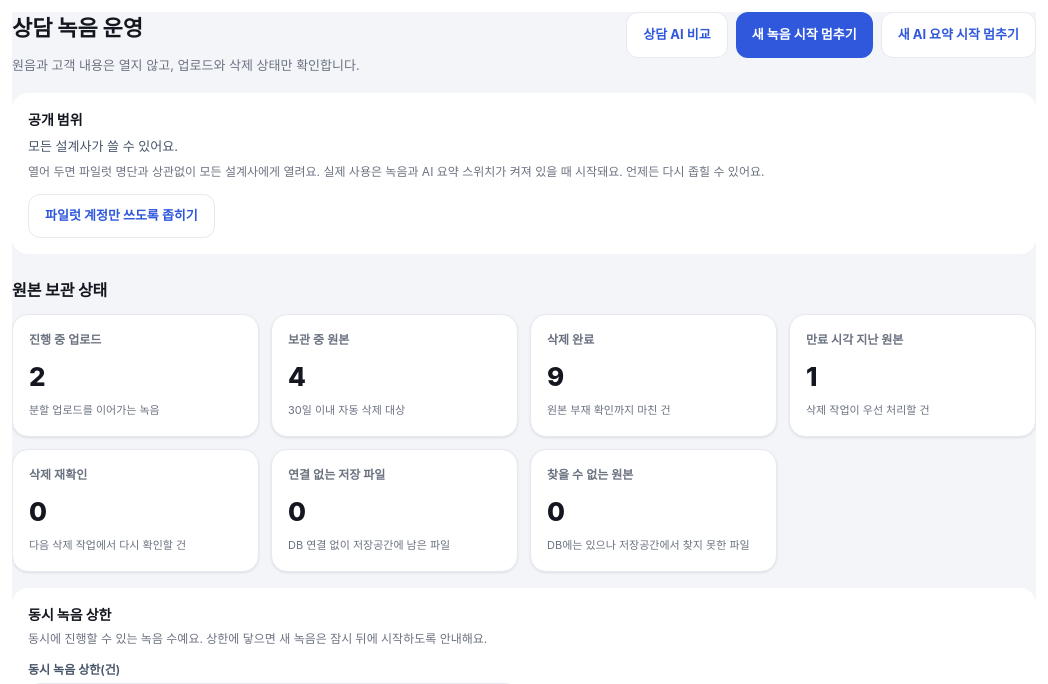
상담 녹음 관리자 화면 › 모두에게 열린 상태에서는 다시 파일럿 계정만 쓰도록 좁힌다
Expected: the heading "상담 녹음 운영" is shown, [12,15,143,41]
Expected: the text "모든 설계사가 쓸 수 있어요." is shown, [28,138,178,154]
Click the button "파일럿 계정만 쓰도록 좁히기" at (121, 216), box [28,194,215,238]
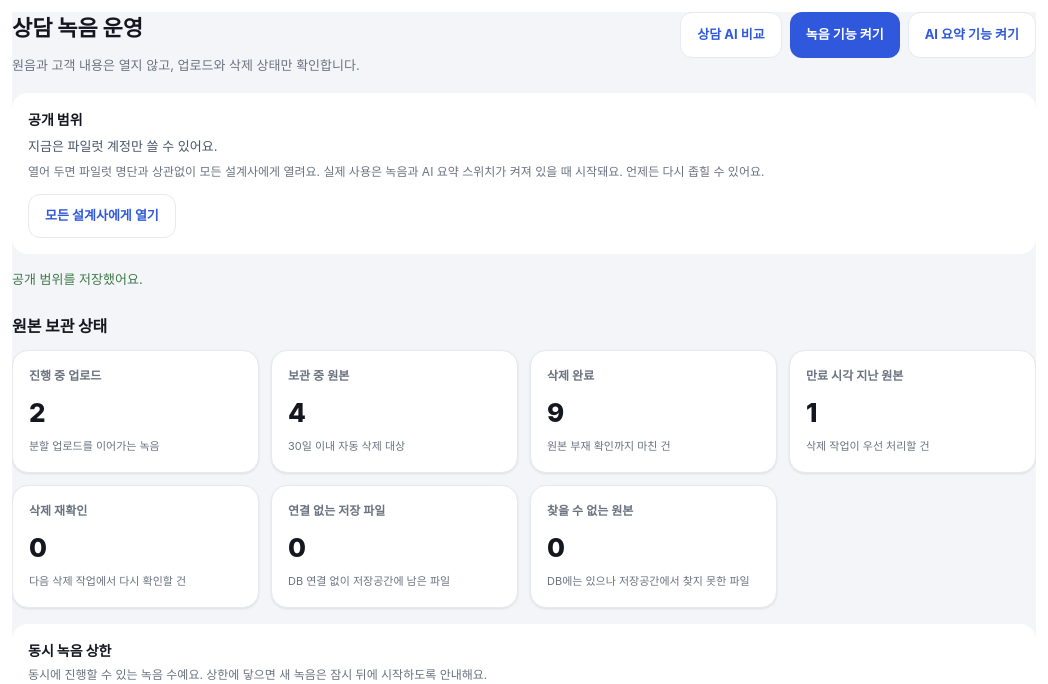
Expected: the text "지금은 파일럿 계정만 쓸 수 있어요." is shown, [28,138,218,154]
